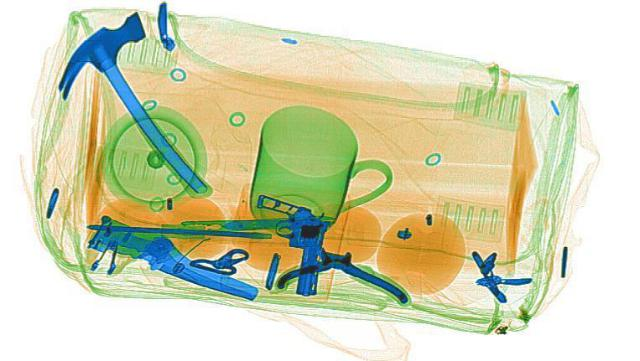Gun: (246, 193, 328, 295)
Pliers: (274, 244, 418, 302)
Scissors: (179, 214, 335, 231)
